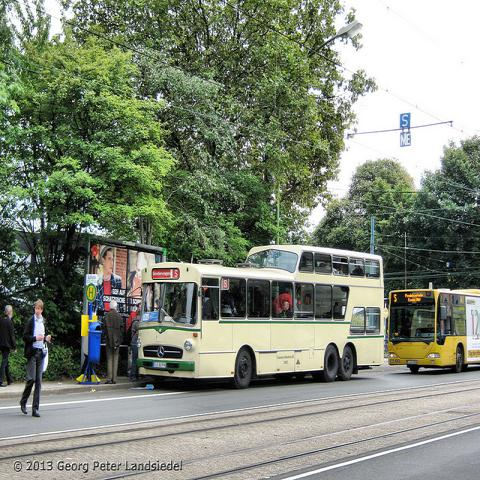bus: (137, 244, 383, 387), (388, 280, 478, 376)
